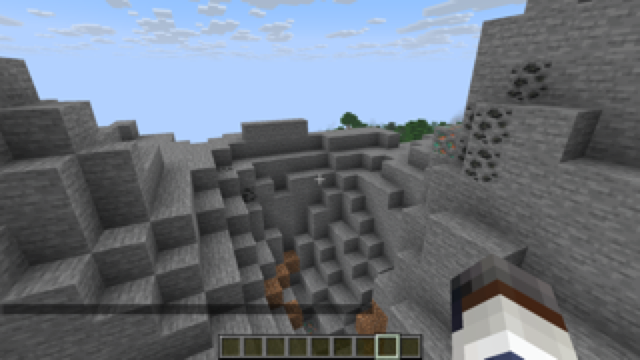coal: (460, 60, 560, 185), (242, 186, 257, 203), (215, 163, 234, 172)
copper: (436, 126, 458, 159), (302, 317, 317, 332)
